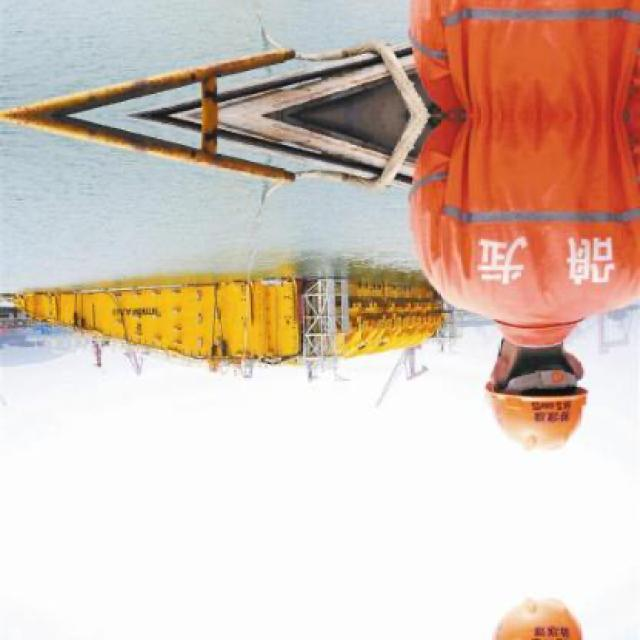con casco: (474, 306, 580, 478)
